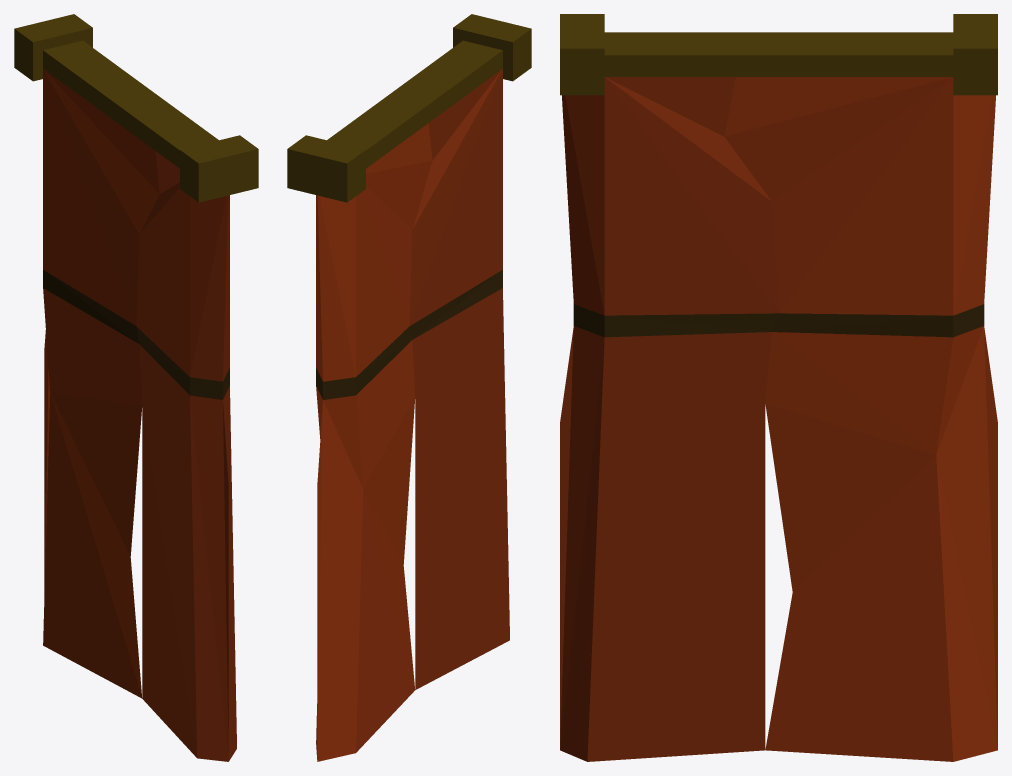
File: obj_tent_door_0.obj
3 renders of one model, left to right at view 1: azimuth 30°, elevation 25°; view 2: azimuth 150°, elevation 25°; view 3: azimuth 270°, elevation 25°, orthographic. The views are drawn at different scales.
Size of the model in its own units: 0.1875 by 1.81 by 1.
